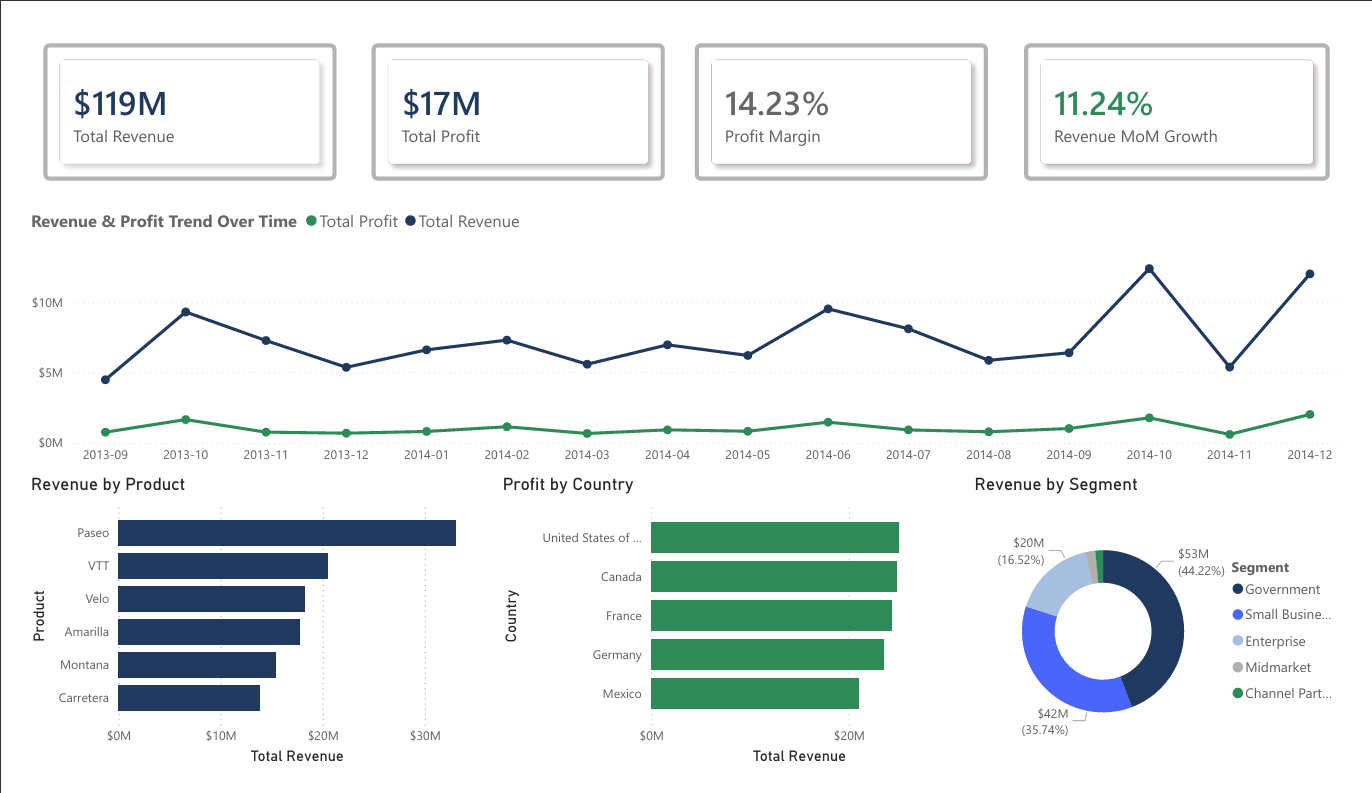

The dashboard page shown, as its layout file describes it:
{"tool":"powerbi","page":{"name":"Page 1","canvas":[1280,720],"ordinal":0},"visuals":[{"type":"cardVisual","fields":{"Data":["Fact_Financials.Total Revenue"]},"box":[0,0,318.4,167.4],"z":0},{"type":"cardVisual","fields":{"Data":["Fact_Financials.Profit Margin"]},"box":[631.2,0,318.4,167.4],"z":1000},{"type":"cardVisual","fields":{"Data":["Fact_Financials.Revenue MoM Growth"]},"box":[949.6,0,330.7,167.4],"z":2000},{"type":"cardVisual","fields":{"Data":["Fact_Financials.Total Profit"]},"box":[318.4,0,318.4,167.4],"z":3000},{"type":"lineChart","fields":{"Y":["Fact_Financials.Total Profit","Fact_Financials.Total Revenue"],"Category":["Dim_Date.Year-Month"]},"box":[0,167.4,1280.3,266.2],"z":4000},{"type":"clusteredBarChart","title":"Revenue by Product","fields":{"Category":["Dim_Product.Product"],"Y":["Fact_Financials.Total Revenue"]},"box":[0,433.6,456.9,286.8],"z":5000},{"type":"clusteredBarChart","title":"Profit by Country","fields":{"Category":["Dim_Country.Country"],"Y":["Fact_Financials.Total Revenue"]},"box":[456.9,433.6,456.9,286.8],"z":6000},{"type":"donutChart","title":"Revenue by Segment","fields":{"Category":["Dim_Segment.Segment"],"Y":["Fact_Financials.Total Revenue"]},"box":[914,434,366,286],"z":6001}]}

Visuals, with their boxes in screenshot pixels (x1, y1, x2, y2), scaled from the page's 1280x720 canvas onto the 1372x793 screenshot:
cardVisual - Fact_Financials.Total Revenue: bbox=[0, 0, 341, 184]
cardVisual - Fact_Financials.Profit Margin: bbox=[677, 0, 1018, 184]
cardVisual - Fact_Financials.Revenue MoM Growth: bbox=[1018, 0, 1371, 184]
cardVisual - Fact_Financials.Total Profit: bbox=[341, 0, 683, 184]
lineChart - Fact_Financials.Total Profit x Fact_Financials.Total Revenue: bbox=[0, 184, 1371, 478]
"Revenue by Product" clusteredBarChart: bbox=[0, 478, 490, 792]
"Profit by Country" clusteredBarChart: bbox=[490, 478, 979, 792]
"Revenue by Segment" donutChart: bbox=[980, 478, 1371, 792]
